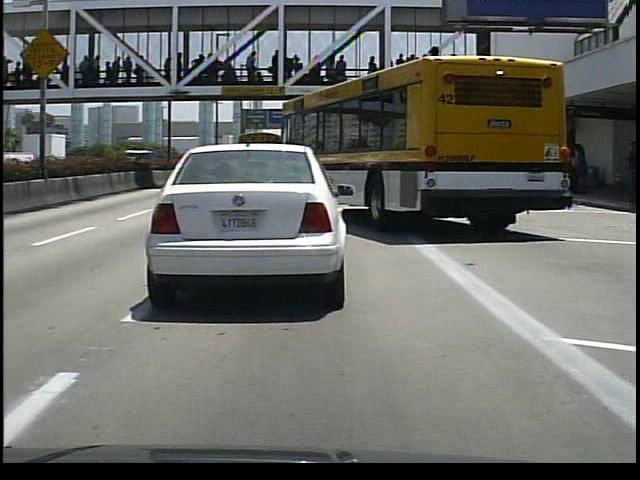person: (627, 137, 640, 205)
